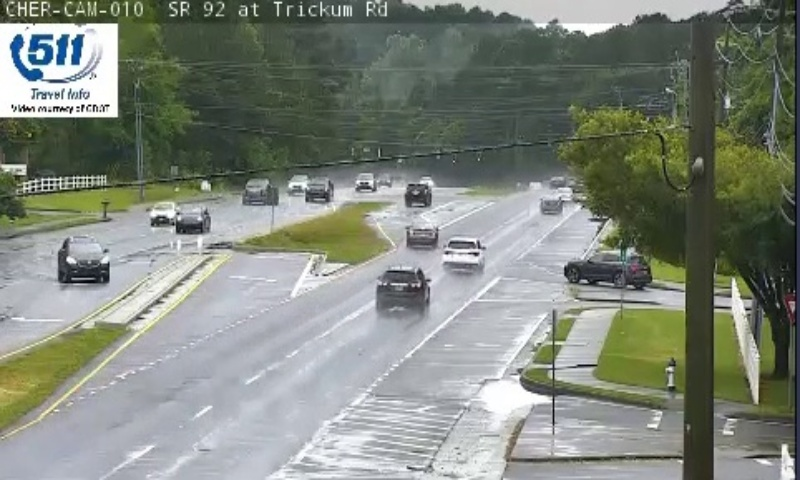car: (376, 265, 428, 304), (441, 238, 484, 268), (406, 220, 436, 243)
